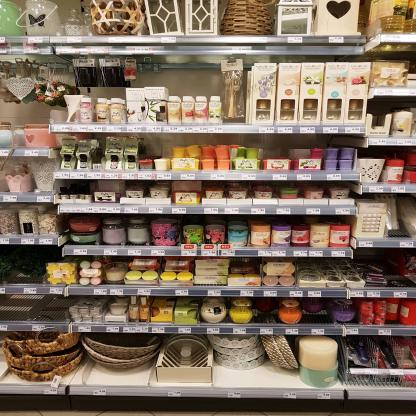Void: (174, 67, 217, 94), (216, 370, 294, 384), (254, 300, 278, 323), (15, 249, 41, 264), (96, 374, 143, 382), (306, 313, 336, 324)
